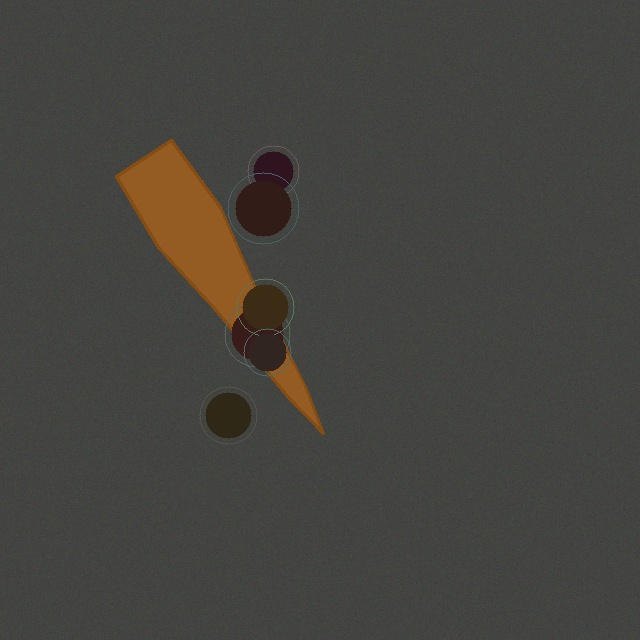Rotten_Carrot: (108, 132, 331, 441)
